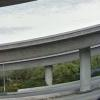Bridge: (7, 20, 95, 76)
